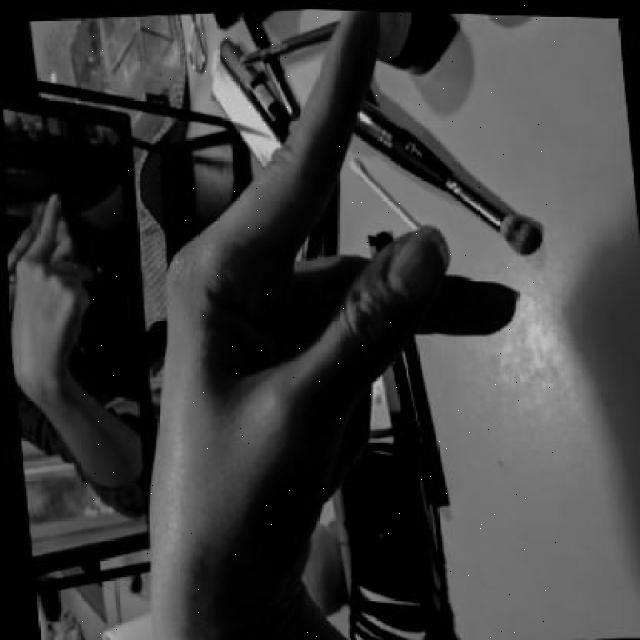P: (82, 2, 556, 638)
